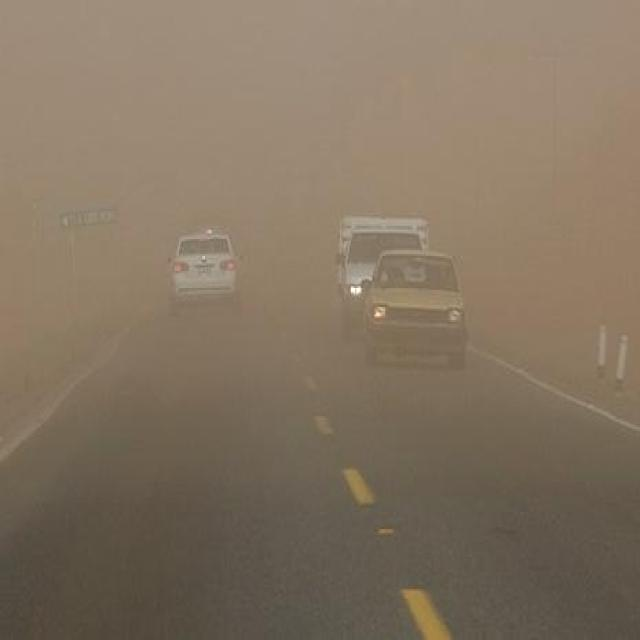Car: (357, 255, 493, 373), (156, 221, 270, 343)
Truck: (298, 187, 444, 320)
